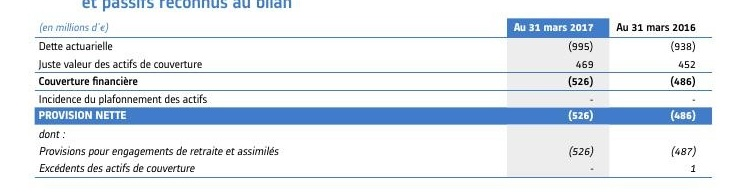table: (0, 0, 751, 192)
